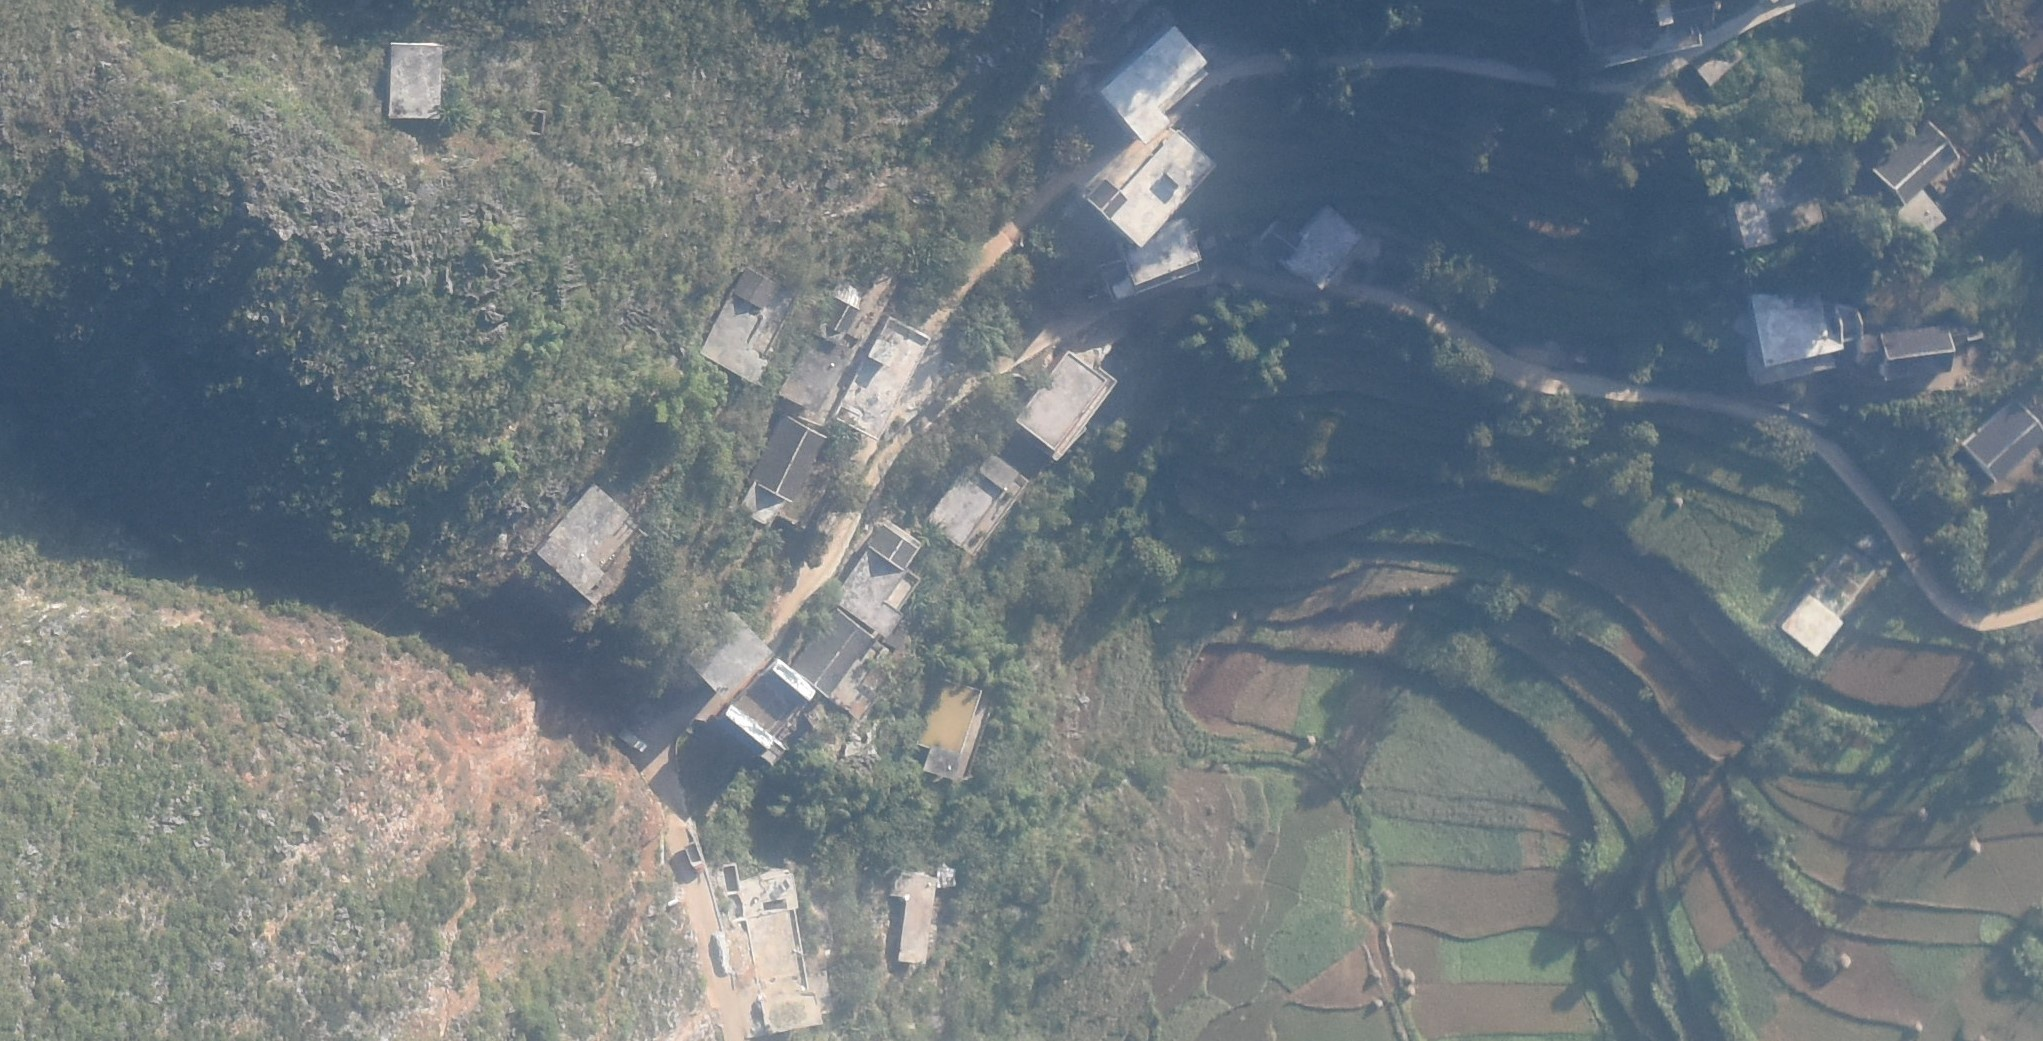building: (723, 864, 824, 1034), (1086, 131, 1219, 244), (534, 482, 648, 605), (1099, 27, 1207, 141), (838, 316, 931, 442), (1780, 544, 1882, 659), (700, 266, 794, 386), (1016, 351, 1116, 459), (927, 450, 1030, 554), (834, 523, 923, 639), (778, 296, 859, 412), (1754, 285, 1864, 369), (1262, 206, 1365, 287), (791, 604, 873, 698), (1873, 120, 1958, 206), (916, 676, 984, 783), (684, 612, 775, 690), (755, 413, 828, 502), (1961, 398, 2031, 485), (1120, 220, 1201, 289), (1734, 189, 1825, 246), (889, 872, 940, 964), (389, 44, 442, 121), (1880, 327, 1955, 374), (1693, 42, 1743, 88), (721, 706, 774, 749), (769, 663, 815, 700)
vehicle: (616, 726, 649, 754)
